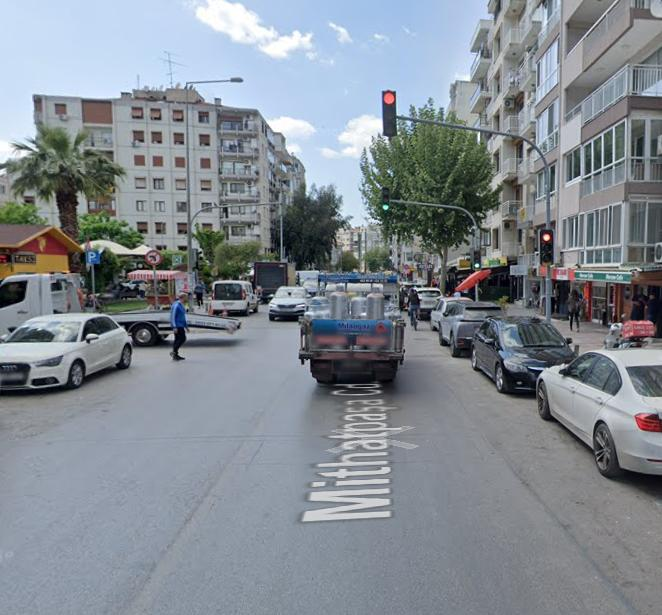greenlight: (382, 187, 391, 214)
leftturnsareforbidden: (147, 250, 161, 264)
park: (86, 251, 99, 265)
redlight: (383, 89, 398, 136), (538, 230, 555, 267)
